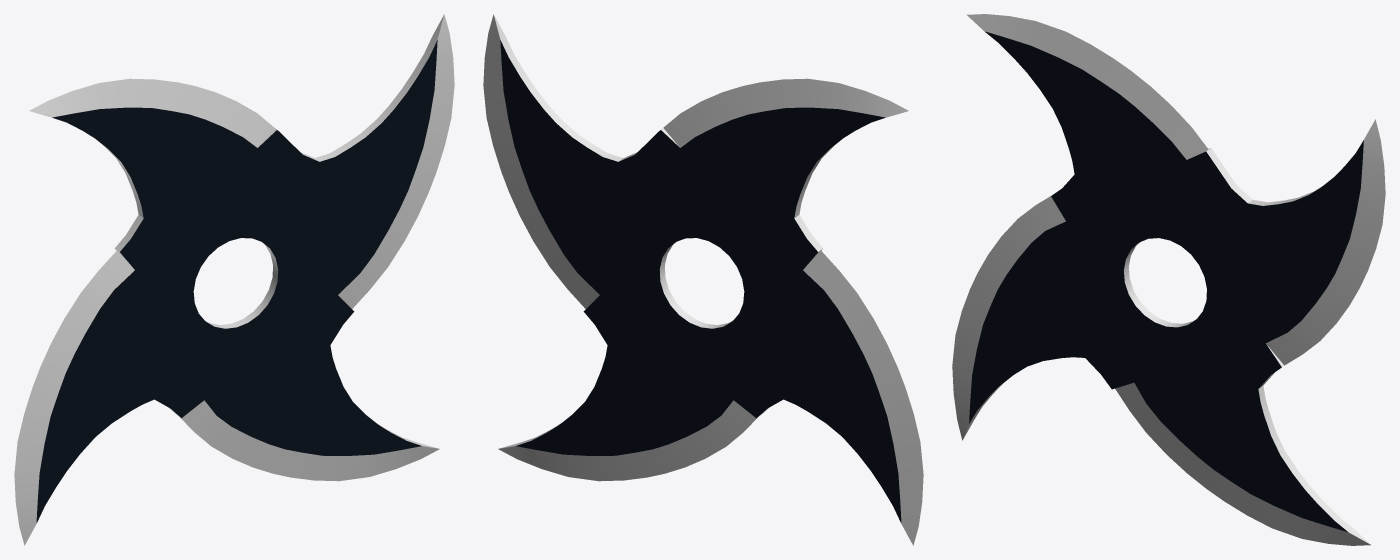
The model's file is shuriken.glb.
3 renders of one model, left to right at view 1: azimuth 30°, elevation 25°; view 2: azimuth 150°, elevation 25°; view 3: azimuth 330°, elevation 25°, orthographic.
Visible parts, largest first — view 1: Shuriken_19; view 2: Shuriken_19; view 3: Shuriken_19.
Part boxes in pixels (x1,y1,x2,y2): Shuriken_19: [14, 14, 454, 545]; Shuriken_19: [483, 14, 923, 545]; Shuriken_19: [952, 14, 1385, 545].
Bounding box in the file's own units: 1.69 × 1.68 × 0.034.
